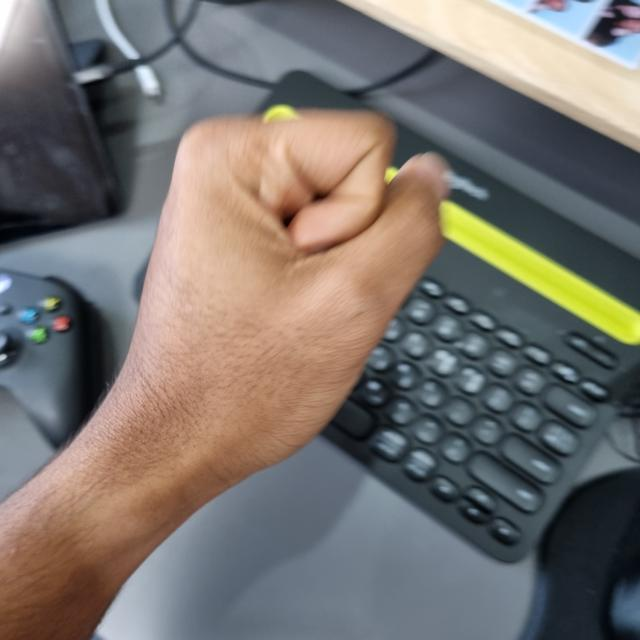Rock: (121, 109, 450, 475)
